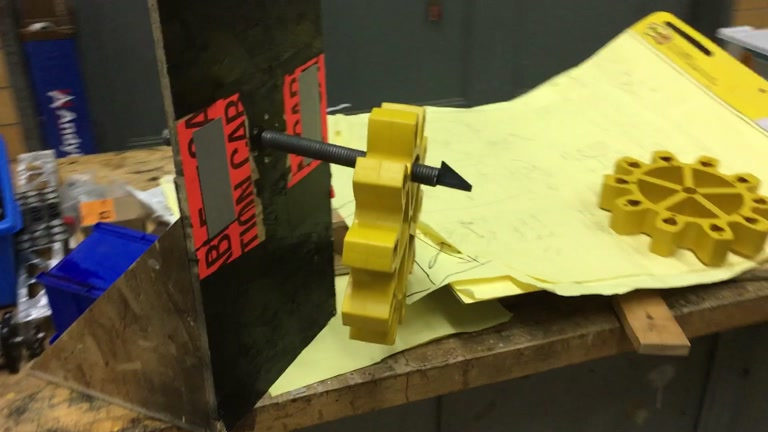gear: (340, 101, 429, 347), (598, 148, 767, 267)
